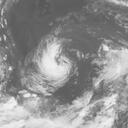cyclone: (21, 36, 73, 97)
